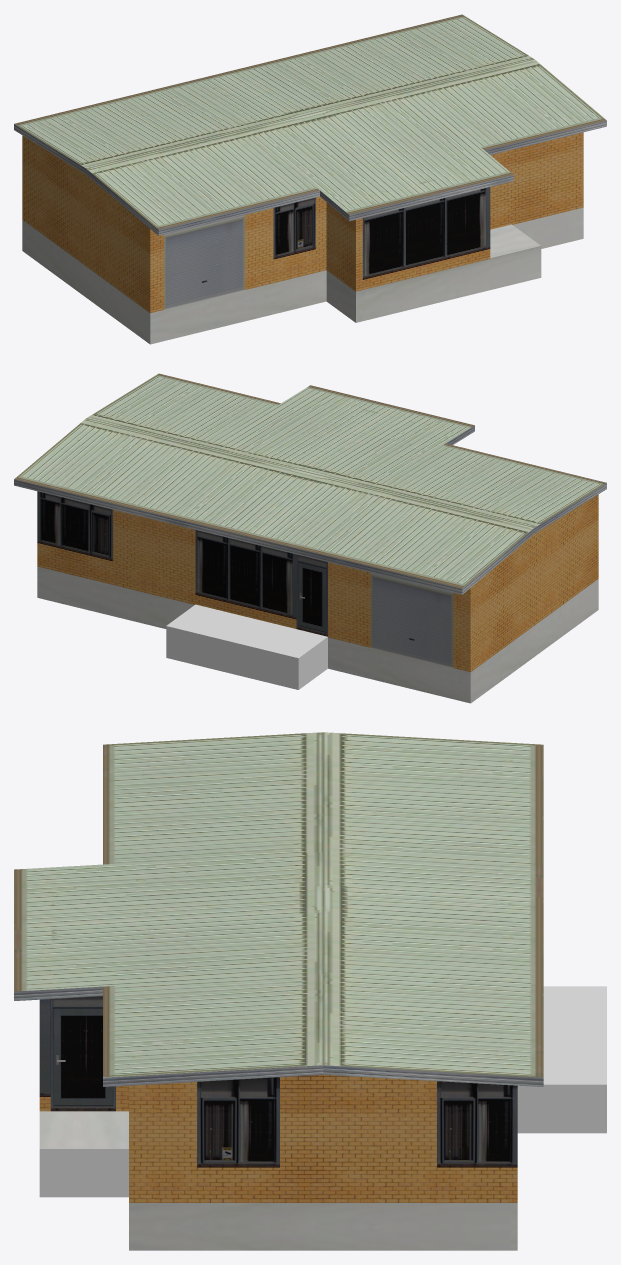
Rendered from terminal-small-08-15x8-cbj_LOD00.gltf.
3 views of the same model, one above another, from view 1: azimuth 30°, elevation 25°; view 2: azimuth 150°, elevation 25°; view 3: azimuth 270°, elevation 25° (orthographic). The views are drawn at different scales.
Visible parts, largest first — view 1: Sketchup; view 2: Sketchup; view 3: Sketchup.
Part boxes in pixels (x1=…): Sketchup: x1=14, y1=14, x2=606, y2=344; Sketchup: x1=14, y1=373, x2=606, y2=703; Sketchup: x1=14, y1=732, x2=606, y2=1250.
Bounding box in the file's own units: 15 × 4.13 × 11.29.
